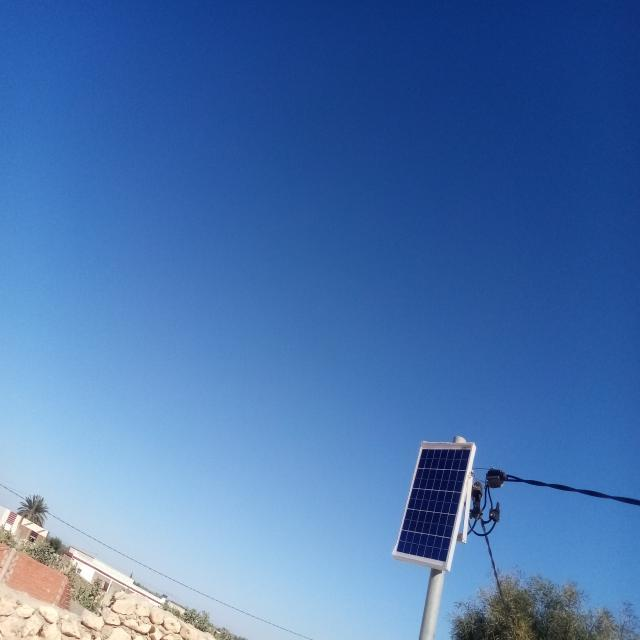no faulty: (393, 442, 474, 569)
